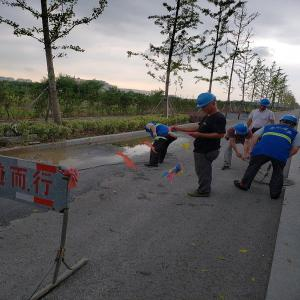blue: (195, 92, 219, 115), (278, 114, 300, 130), (234, 123, 250, 137), (258, 99, 273, 112)
